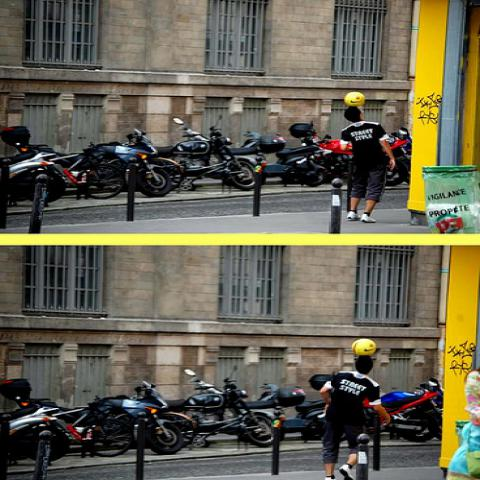motorcycle: (0, 376, 187, 453), (169, 367, 277, 447), (152, 114, 257, 194), (98, 130, 173, 196), (1, 405, 71, 466), (284, 124, 353, 185), (256, 384, 326, 438), (9, 150, 70, 206), (380, 391, 437, 441), (386, 131, 411, 187)
